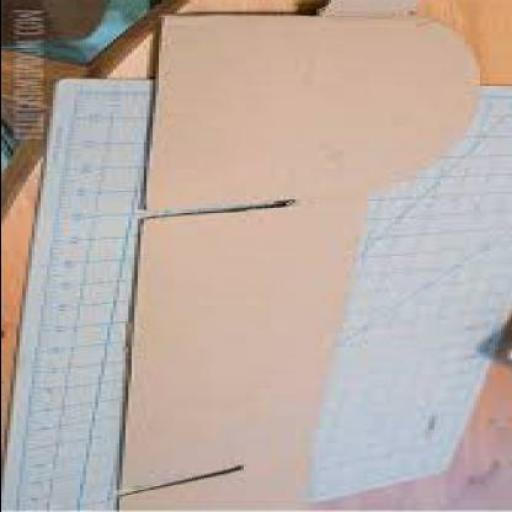cardboard: (115, 2, 482, 511)
